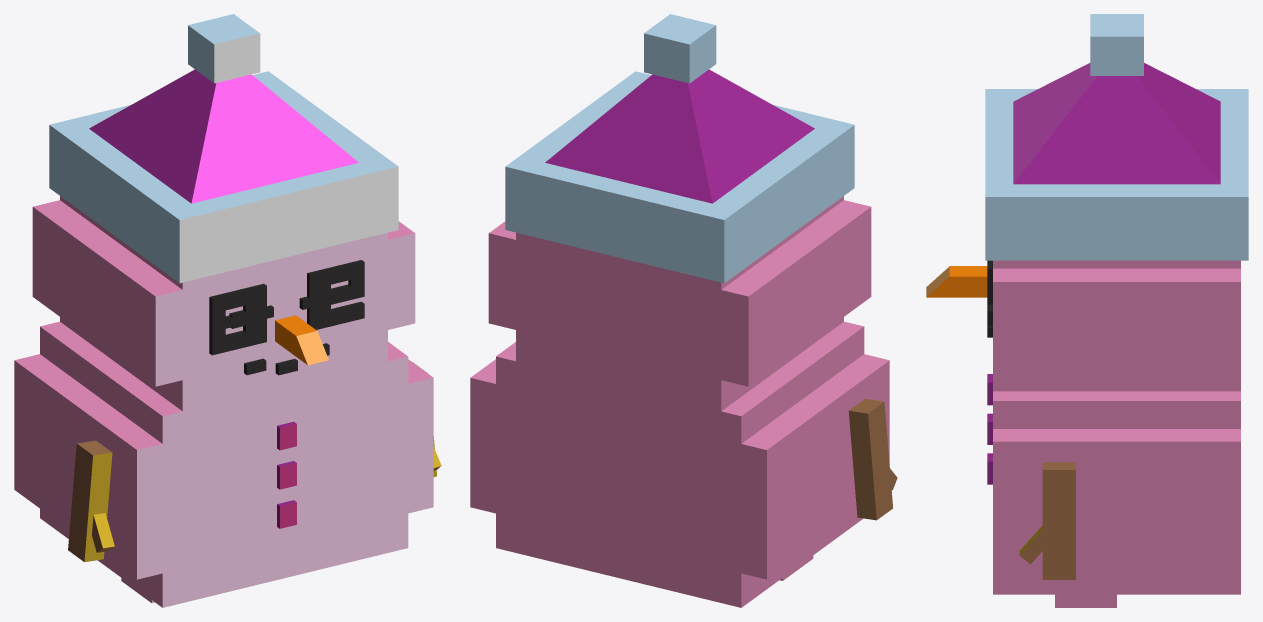
The picture shows the model from 3 angles, left to right: view 1: azimuth 30°, elevation 25°; view 2: azimuth 150°, elevation 25°; view 3: azimuth 270°, elevation 25°; orthographic projection.
Parts seen in each view (by area): view 1: Ch_174_Head, Ch_174, Ch_174_Hand_L, Ch_174_Eye_03_L, Ch_174_Eye_03_R, Ch_174_Eye_02; view 2: Ch_174_Head, Ch_174, Ch_174_Hand_L; view 3: Ch_174_Head, Ch_174, Ch_174_Hand_R, Ch_174_Leg_R.
Boxes of the visible parts, bbox=[...] form: Ch_174_Head: bbox=[32, 14, 415, 411]; Ch_174: bbox=[14, 321, 433, 607]; Ch_174_Hand_L: bbox=[68, 440, 114, 562]; Ch_174_Eye_03_L: bbox=[209, 283, 266, 355]; Ch_174_Eye_03_R: bbox=[307, 260, 364, 329]; Ch_174_Eye_02: bbox=[225, 287, 355, 328]; Ch_174_Head: bbox=[488, 14, 871, 411]; Ch_174: bbox=[470, 321, 889, 607]; Ch_174_Hand_L: bbox=[848, 398, 897, 520]; Ch_174_Head: bbox=[926, 14, 1248, 391]; Ch_174: bbox=[987, 374, 1240, 594]; Ch_174_Hand_R: bbox=[1019, 462, 1075, 579]; Ch_174_Leg_R: bbox=[1055, 594, 1116, 607].
Bounding box in the file's own units: 7.21 × 10.28 × 5.65.
